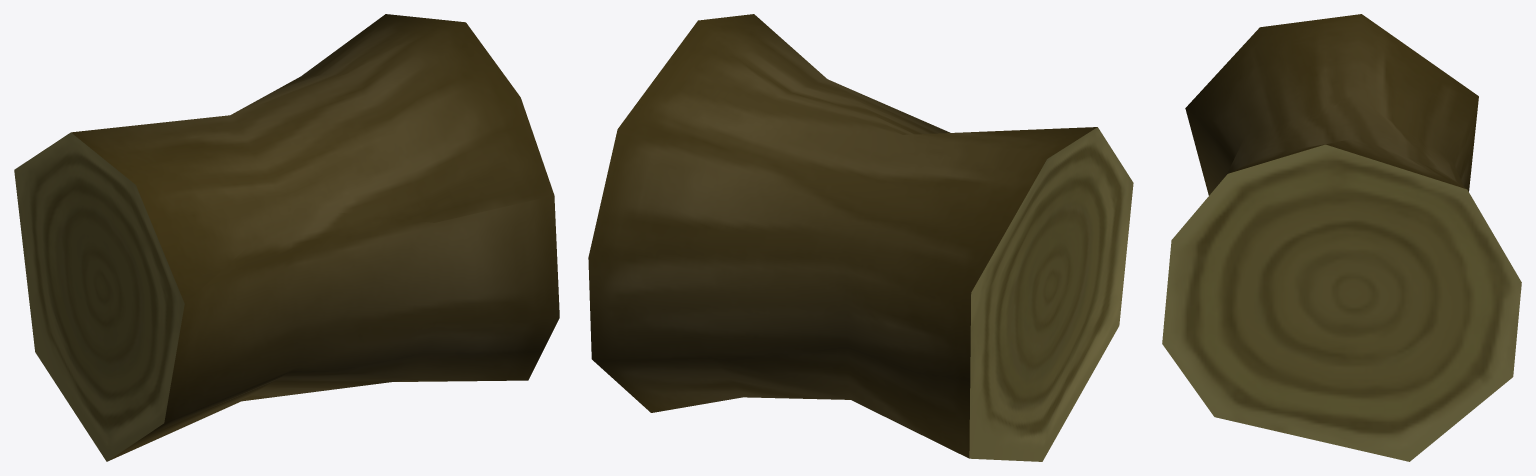
Rendered from s01_tree_04.FBX.
The picture shows the model from 3 angles, left to right: view 1: azimuth 30°, elevation 25°; view 2: azimuth 150°, elevation 25°; view 3: azimuth 270°, elevation 25°; orthographic projection. The views are drawn at different scales.
Visible parts, largest first — view 1: s01_tree_04; view 2: s01_tree_04; view 3: s01_tree_04.
Part boxes in pixels (<box>): s01_tree_04: <box>14,14,559,461</box>; s01_tree_04: <box>588,14,1133,461</box>; s01_tree_04: <box>1162,14,1521,461</box>.
Size of the model in its own units: 1.47 by 1.35 by 1.39.
